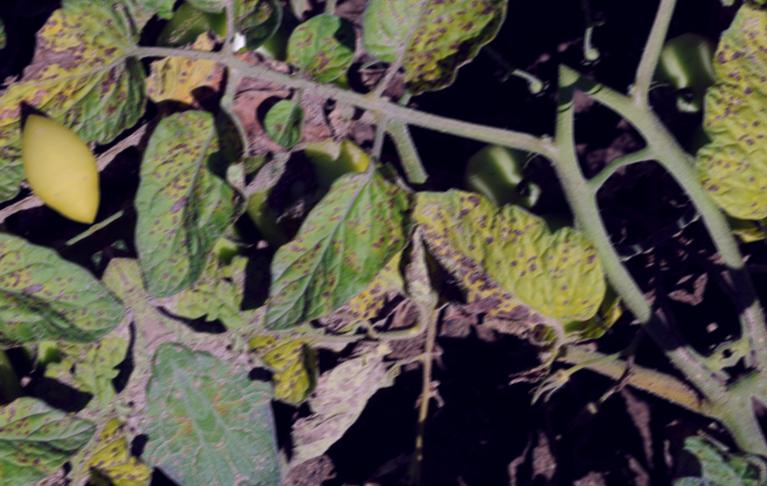Tomato Septoria leaf spot: (390, 127, 633, 383), (210, 136, 449, 349), (86, 90, 299, 313), (0, 0, 201, 170), (312, 0, 544, 117), (149, 0, 331, 37)
